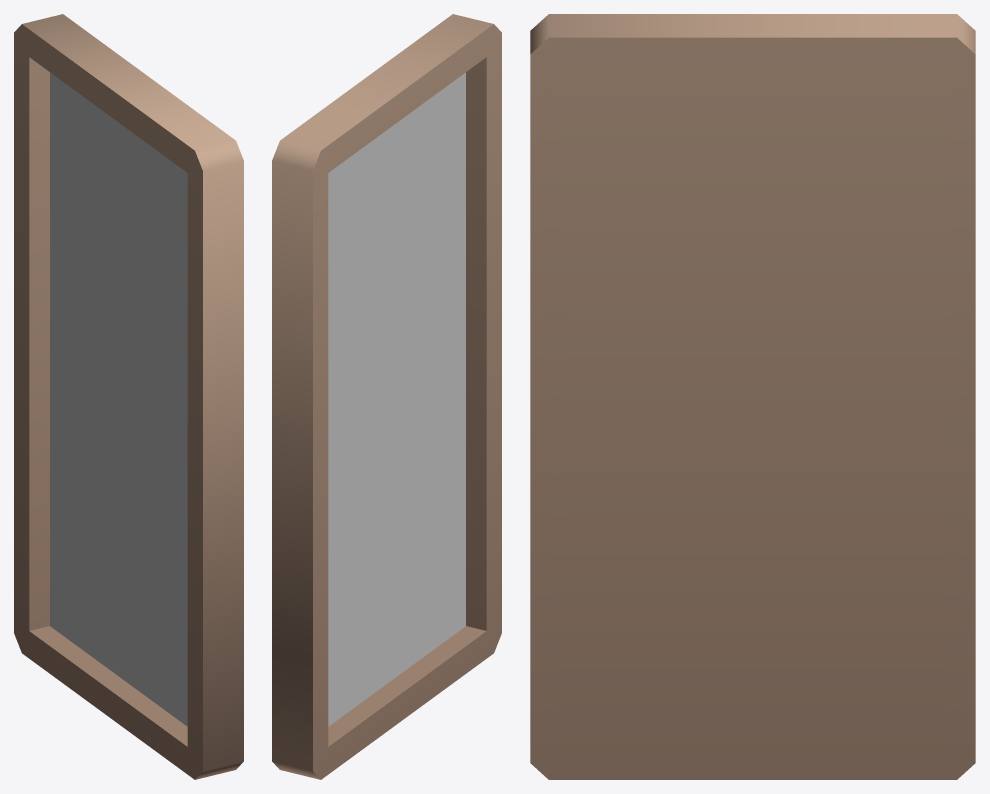
The model's file is art-frame-thin-portrait (%wall).glb.
3 views of the same model, side by side, from view 1: azimuth 30°, elevation 25°; view 2: azimuth 150°, elevation 25°; view 3: azimuth 270°, elevation 25° (orthographic). The views are drawn at different scales.
Visible parts, largest first — view 1: art-frame-thin-portrait (%wall); view 2: art-frame-thin-portrait (%wall); view 3: art-frame-thin-portrait (%wall).
Boxes of the visible parts, x1,y1,x2,y2 form: art-frame-thin-portrait (%wall): [14, 14, 243, 779]; art-frame-thin-portrait (%wall): [272, 14, 501, 779]; art-frame-thin-portrait (%wall): [530, 14, 975, 779].
Size of the model in its own units: 0.075 by 1.1 by 0.5965.
